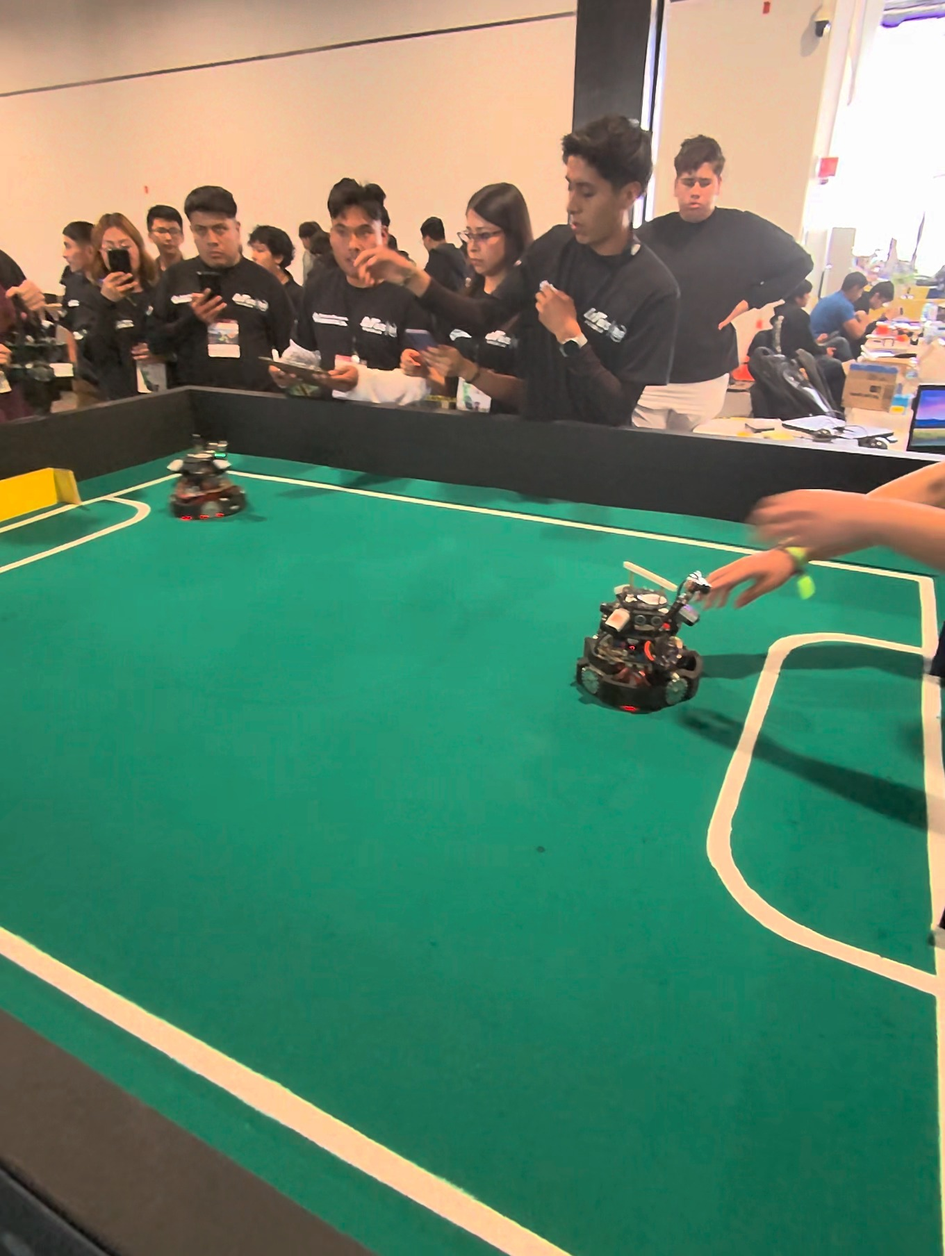Robot: (569, 553, 708, 727), (173, 421, 249, 532)
